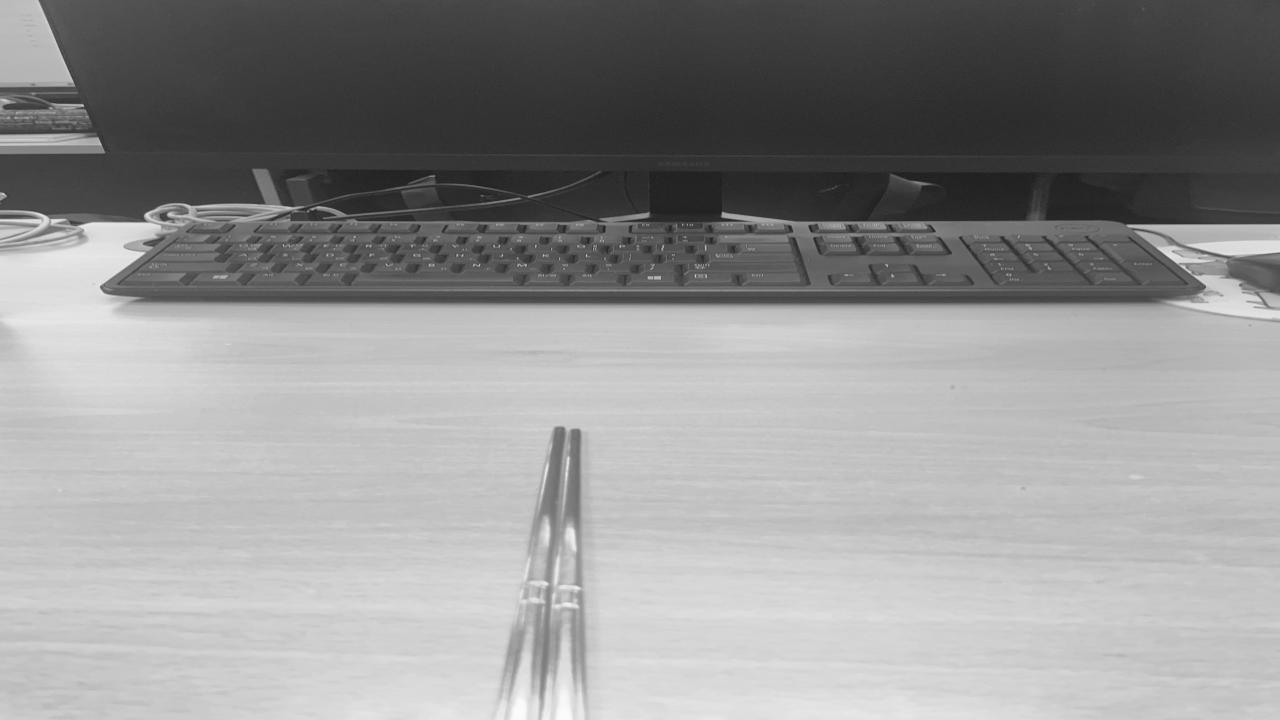chopstick: (493, 428, 586, 720)
